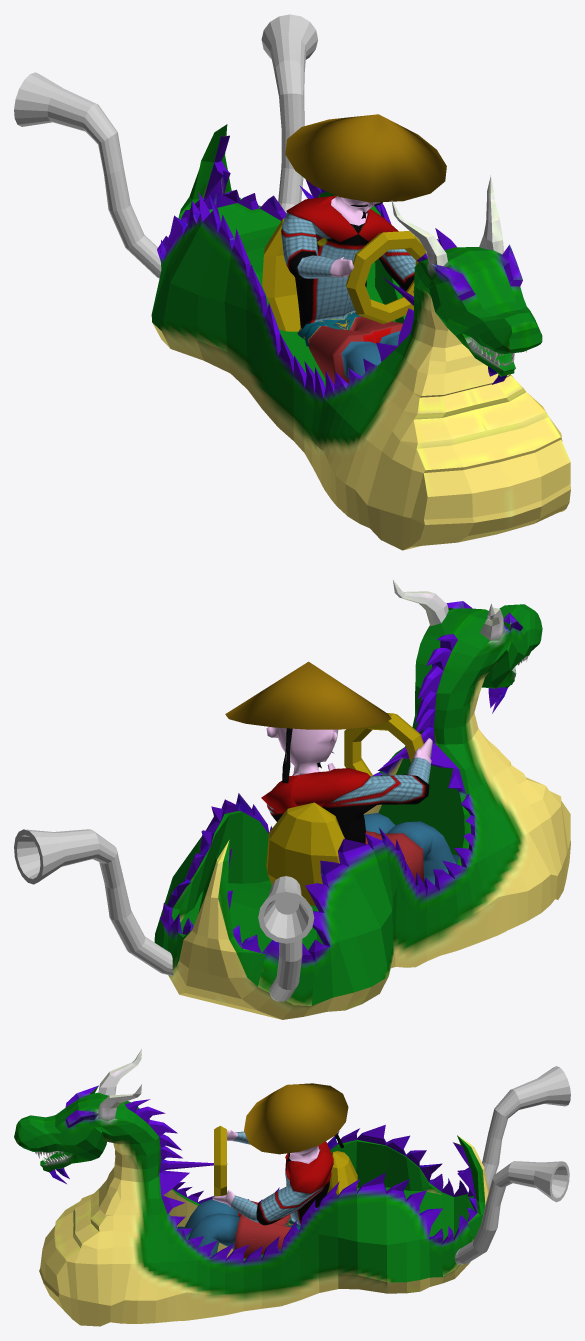
The model's file is ChinoGiroIzq_000197.obj.
3 renders of one model, top to bottom at view 1: azimuth 30°, elevation 25°; view 2: azimuth 150°, elevation 25°; view 3: azimuth 270°, elevation 25°, orthographic. The views are drawn at different scales.
Parts seen in each view (by area): view 1: ChasisChino_ChasisChinoH, Chino_ChinoH, Tubos_TubosH, volanteChino_VolanteChinoH, AsientoChinoMalla_AsientoChinoMH; view 2: ChasisChino_ChasisChinoH, Chino_ChinoH, Tubos_TubosH, AsientoChinoMalla_AsientoChinoMH, volanteChino_VolanteChinoH; view 3: ChasisChino_ChasisChinoH, Chino_ChinoH, Tubos_TubosH, volanteChino_VolanteChinoH, AsientoChinoMalla_AsientoChinoMH.
Boxes of the visible parts, <box> form: ChasisChino_ChasisChinoH: <box>151,124,570,550</box>; Chino_ChinoH: <box>281,114,446,383</box>; Tubos_TubosH: <box>14,14,317,278</box>; volanteChino_VolanteChinoH: <box>346,231,425,323</box>; AsientoChinoMalla_AsientoChinoMH: <box>262,218,300,331</box>; ChasisChino_ChasisChinoH: <box>154,580,570,1019</box>; Chino_ChinoH: <box>225,661,459,884</box>; Tubos_TubosH: <box>14,829,314,1001</box>; AsientoChinoMalla_AsientoChinoMH: <box>266,802,344,906</box>; volanteChino_VolanteChinoH: <box>344,713,423,775</box>; ChasisChino_ChasisChinoH: <box>14,1049,489,1326</box>; Chino_ChinoH: <box>177,1083,348,1258</box>; Tubos_TubosH: <box>455,1066,570,1264</box>; volanteChino_VolanteChinoH: <box>214,1126,226,1196</box>; AsientoChinoMalla_AsientoChinoMH: <box>327,1151,357,1194</box>.
Bounding box in the file's own units: 6.15 × 6.07 × 13.3.
